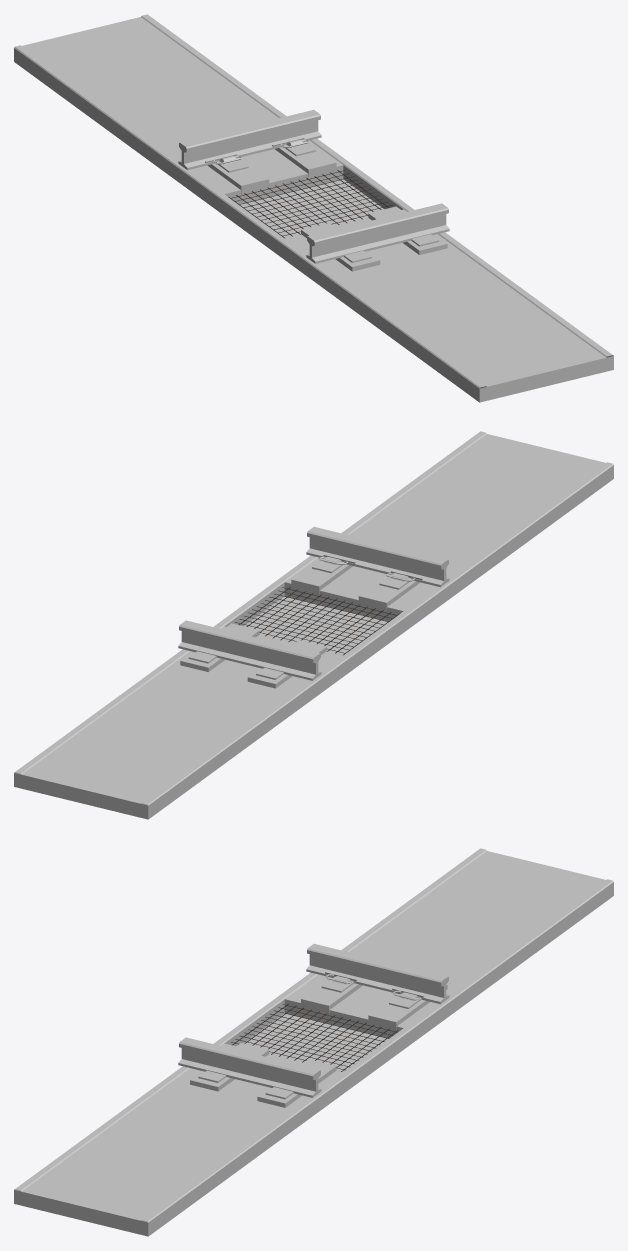
The model's file is SM_Tunnel_Floor_1m.fbx.
3 renders of one model, top to bottom at view 1: azimuth 30°, elevation 25°; view 2: azimuth 150°, elevation 25°; view 3: azimuth 330°, elevation 25°, orthographic.
Parts seen in each view (by area): view 1: SM_Tunnel_Floor_1m; view 2: SM_Tunnel_Floor_1m; view 3: SM_Tunnel_Floor_1m.
Part boxes in pixels (box(x1,y1,x2,y2)): SM_Tunnel_Floor_1m: box(14, 14, 613, 402); SM_Tunnel_Floor_1m: box(14, 431, 613, 819); SM_Tunnel_Floor_1m: box(14, 848, 613, 1236).
Bounding box in the file's own units: 100 × 28.87 × 600.
